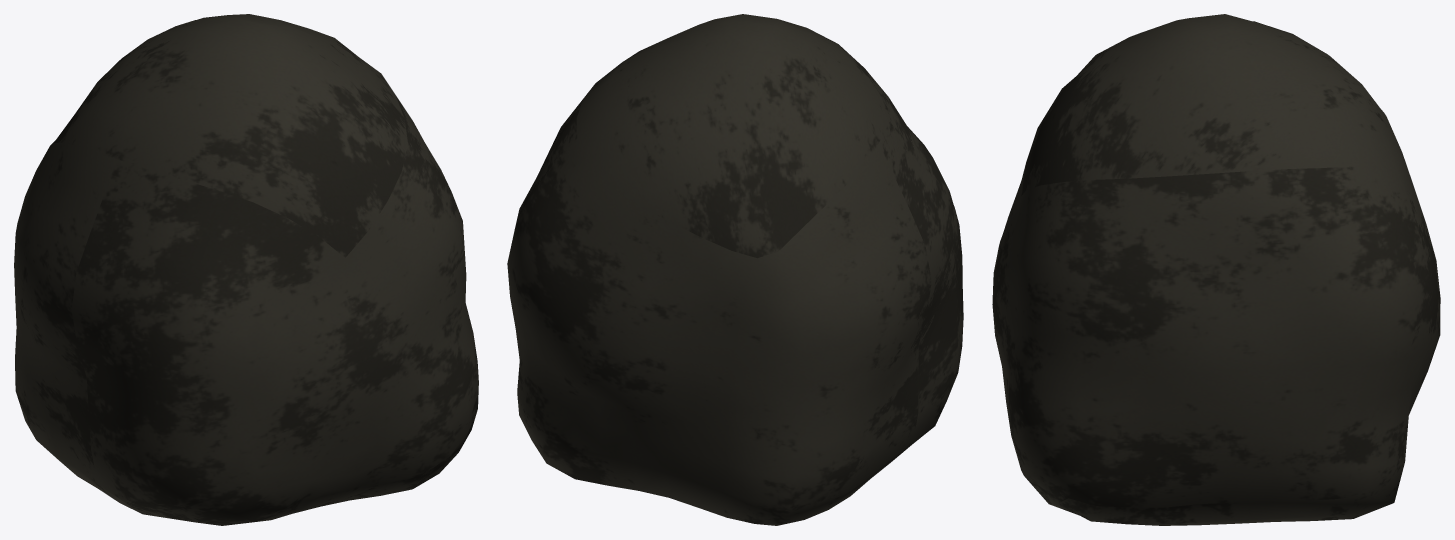
The model's file is Roca3.fbx.
3 views of the same model, side by side, from view 1: azimuth 30°, elevation 25°; view 2: azimuth 150°, elevation 25°; view 3: azimuth 270°, elevation 25° (orthographic). The views are drawn at different scales.
Parts seen in each view (by area): view 1: Piedra3; view 2: Piedra3; view 3: Piedra3.
Boxes of the visible parts, x1,y1,x2,y2 form: Piedra3: (14,14,478,525); Piedra3: (507,14,963,525); Piedra3: (992,14,1440,525).
Size of the model in its own units: 1578 by 1809 by 1610.
Materials: 1 (1 with a texture image).
